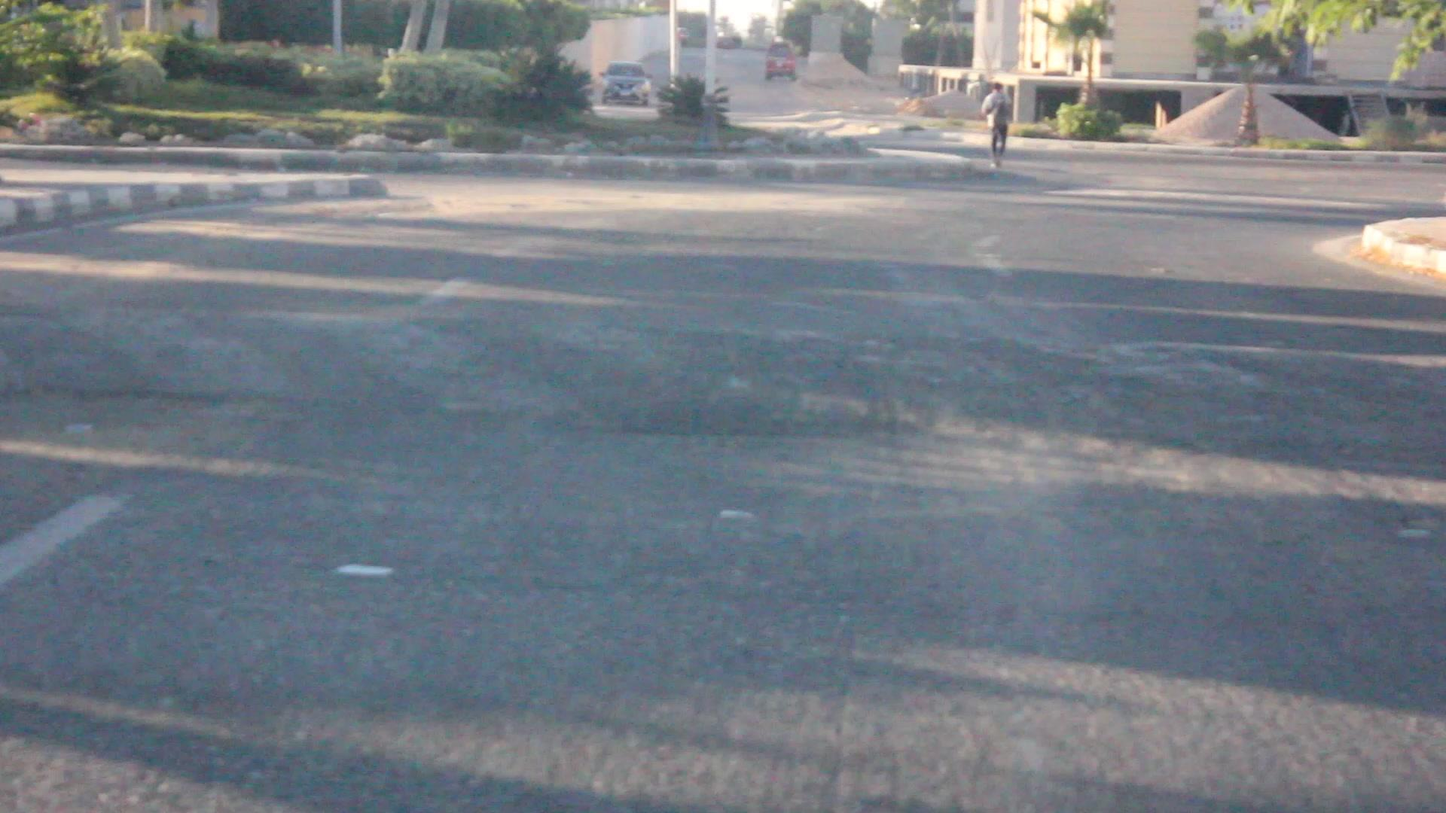Bump: (0, 299, 1446, 476)
